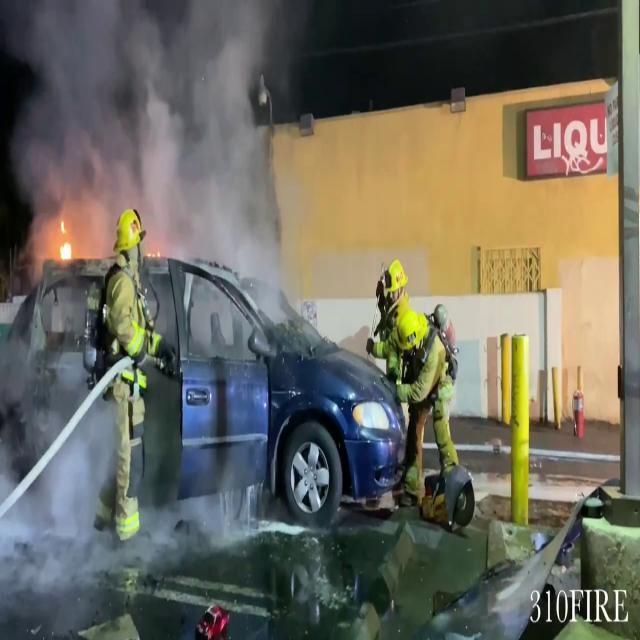Smoke: (2, 0, 302, 270), (0, 322, 136, 554)
